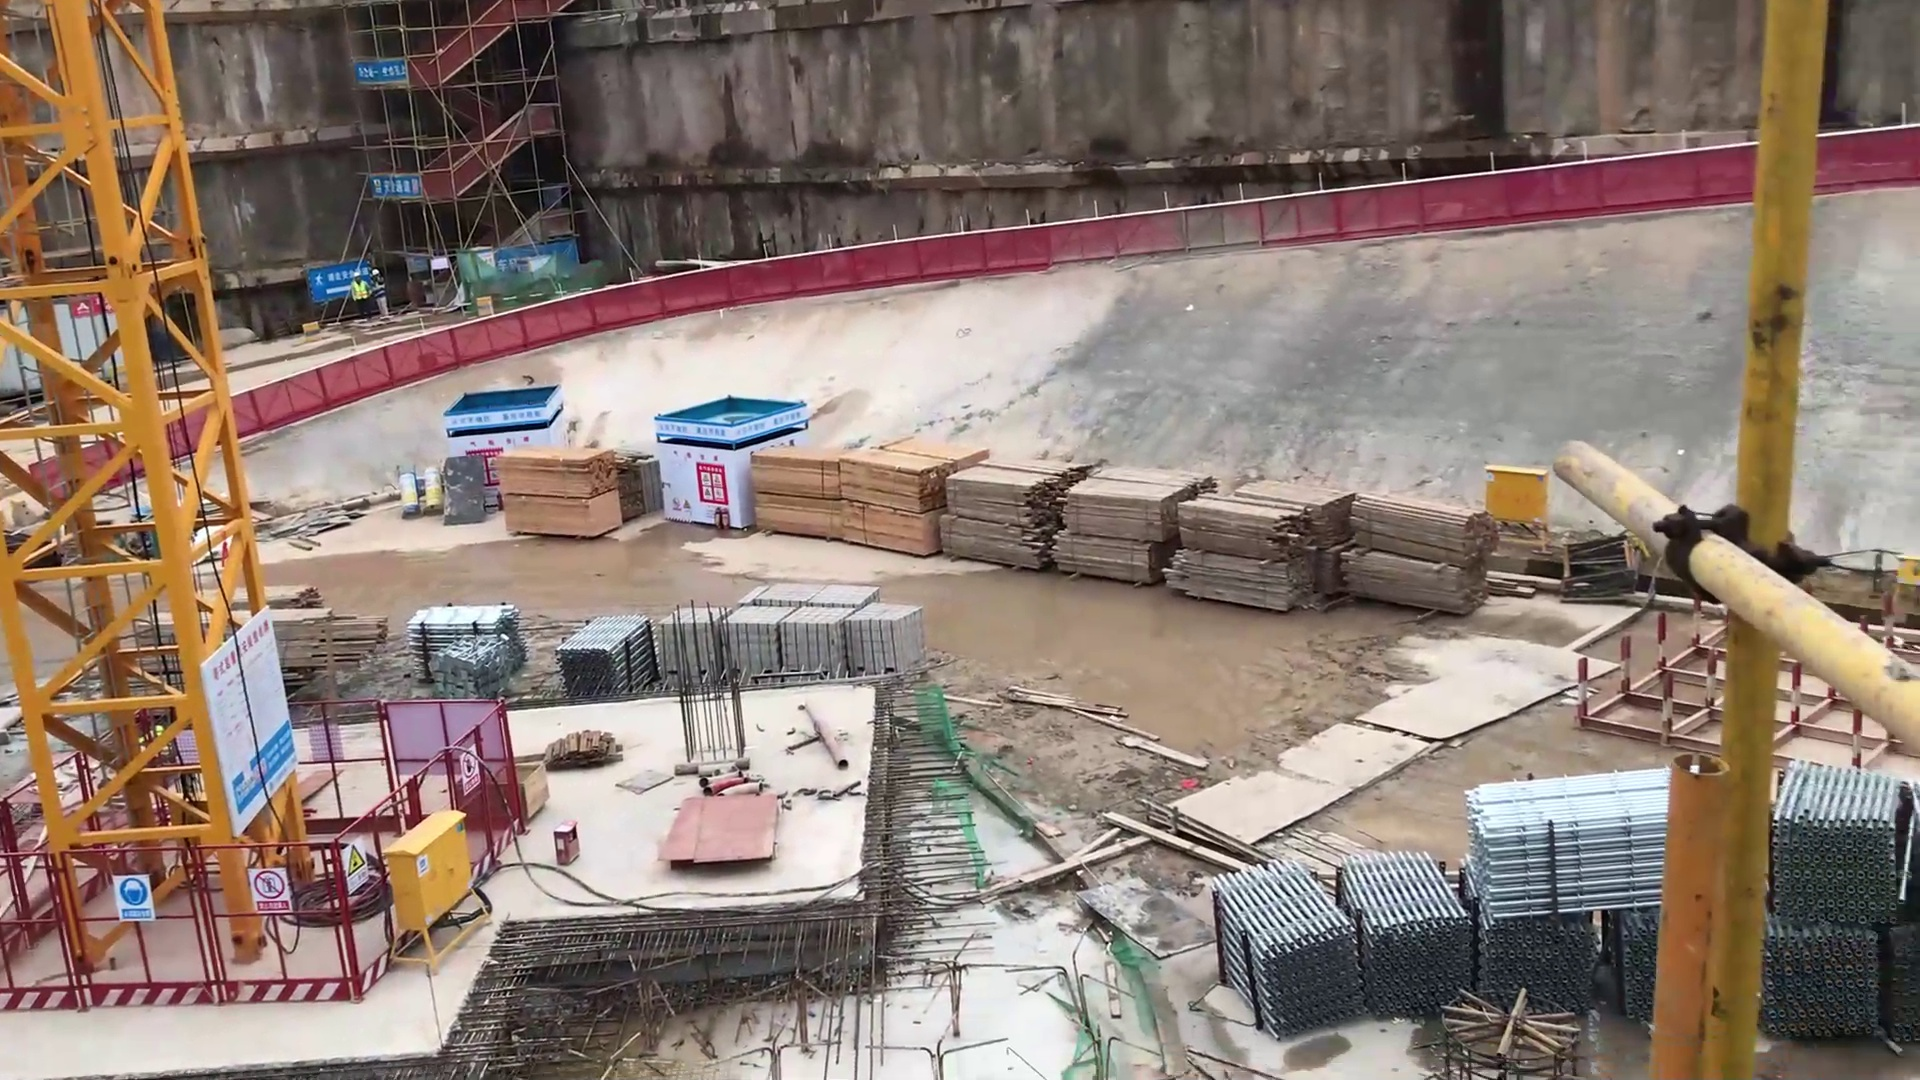board: (654, 789, 780, 879)
brick: (655, 603, 739, 691), (732, 575, 892, 617), (778, 602, 853, 691), (721, 603, 798, 687), (849, 599, 925, 683)
ebox: (385, 801, 496, 983), (1477, 453, 1558, 572)
fence: (187, 831, 348, 1017), (1553, 145, 1750, 213)
person: (370, 268, 392, 324), (350, 272, 372, 319)
scaffold: (1769, 764, 1920, 1041), (1452, 759, 1669, 920), (1196, 855, 1371, 1041), (1336, 849, 1480, 1022), (1477, 913, 1659, 1024), (408, 602, 526, 697), (549, 612, 655, 709)
slogan: (197, 602, 323, 831), (358, 49, 429, 98), (691, 457, 743, 516), (363, 163, 429, 207), (248, 864, 299, 915), (119, 872, 163, 920), (455, 731, 485, 802), (341, 841, 377, 901)
wood: (760, 437, 978, 564), (1171, 476, 1354, 627), (1338, 492, 1506, 630), (1066, 460, 1197, 592), (260, 583, 391, 693), (944, 459, 1063, 576), (495, 442, 625, 545)
